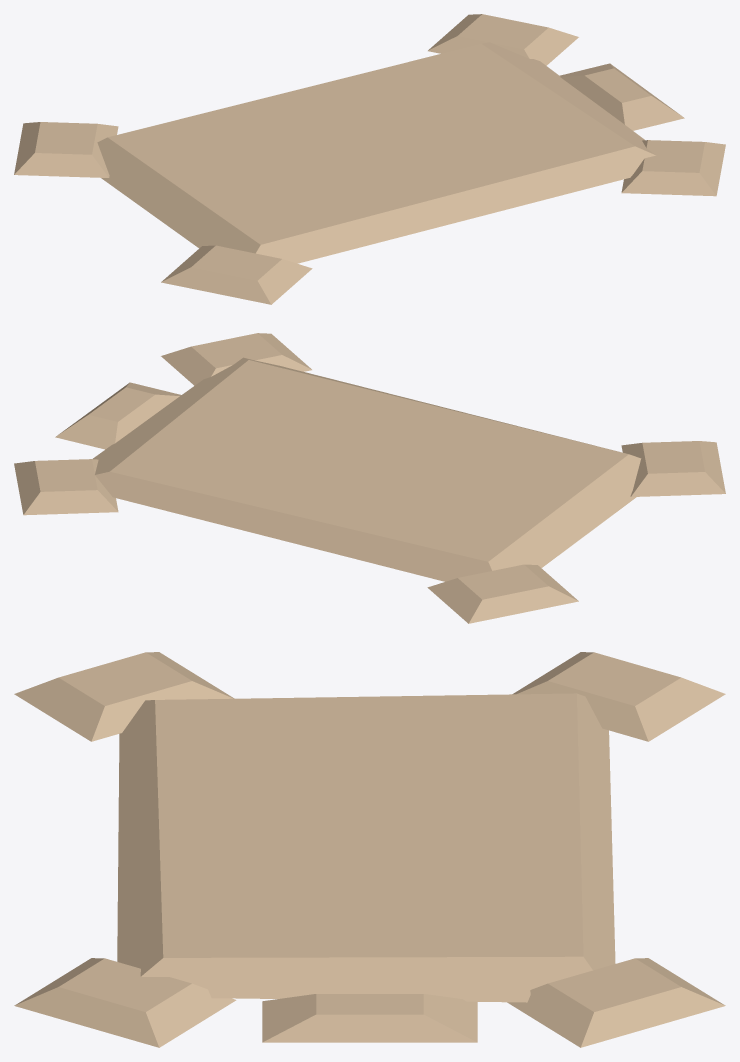
File: item_013_hide_wrap_s.glb
3 views of the same model, one above another, from view 1: azimuth 30°, elevation 25°; view 2: azimuth 150°, elevation 25°; view 3: azimuth 270°, elevation 25° (orthographic). The views are drawn at different scales.
Parts seen in each view (by area): view 1: item_013_hide_wrap_s; view 2: item_013_hide_wrap_s; view 3: item_013_hide_wrap_s.
Part boxes in pixels (bbox=[...]): item_013_hide_wrap_s: bbox=[14, 14, 725, 304]; item_013_hide_wrap_s: bbox=[14, 333, 725, 623]; item_013_hide_wrap_s: bbox=[14, 652, 725, 1047].
Bounding box in the file's own units: 0.9572 × 0.0378 × 0.7276.
